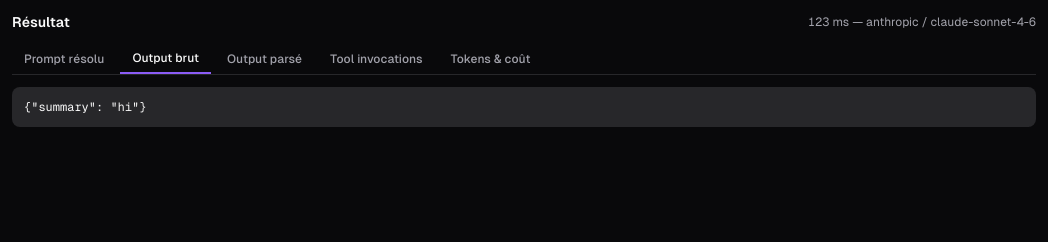
OutputInspector › detects a ControllerReview shape in parsed_output and renders the verdict badge (Story 2.8 AC4)
Step 1. Click the tab with test id "playground-tab-parsed" → (264, 59), box [215,44,314,74]
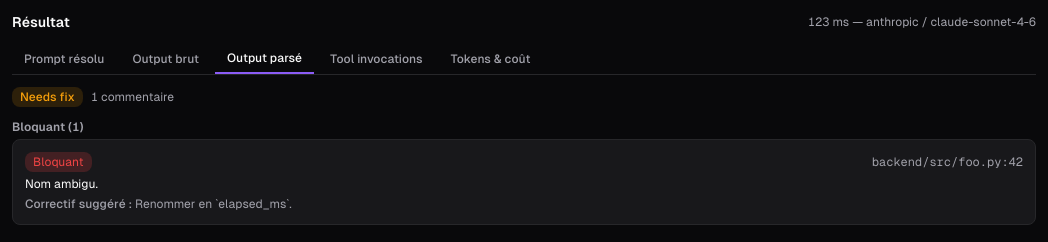
Check: the text with test id "controller-review-verdict" reads "Needs fix", box [20,90,75,104]
Check: the text "Renommer en `elapsed_ms`." is shown, box [135,197,292,211]
